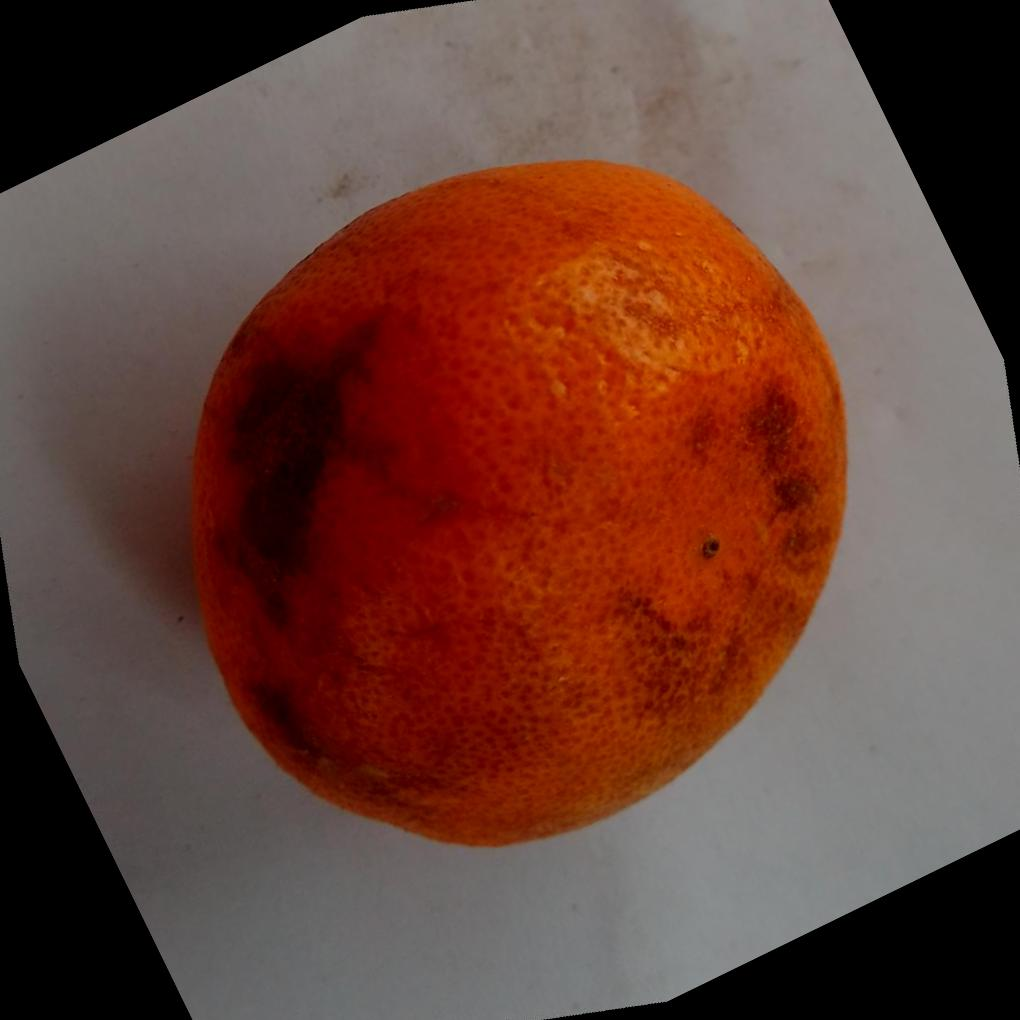FreshOrange: (186, 152, 847, 847)
